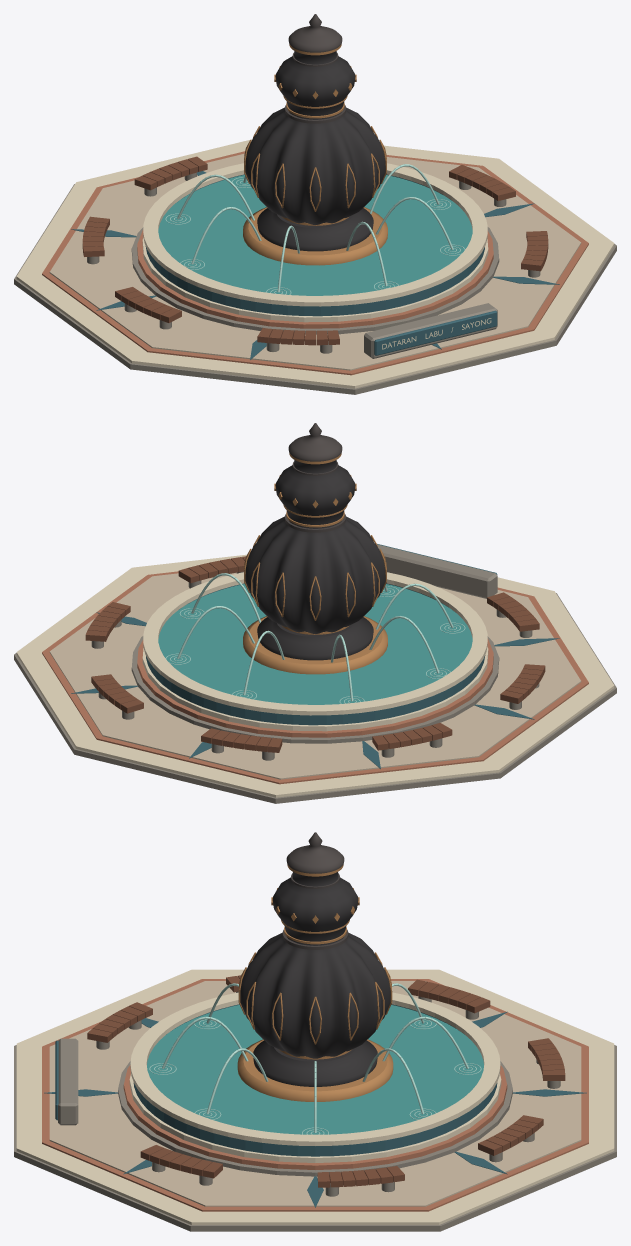
3 views of the same model, one above another, from view 1: azimuth 30°, elevation 25°; view 2: azimuth 150°, elevation 25°; view 3: azimuth 270°, elevation 25° (orthographic). The views are drawn at different scales.
Parts seen in each view (by area): view 1: Processional Paving, Octagonal Reflecting Basin, Labu Sayong Sculpture, Crescent Benches, Arc Jets; view 2: Processional Paving, Octagonal Reflecting Basin, Labu Sayong Sculpture, Crescent Benches, Arc Jets; view 3: Processional Paving, Octagonal Reflecting Basin, Labu Sayong Sculpture, Crescent Benches, Arc Jets.
Boxes of the visible parts, left/top/right/bottom form: Processional Paving: left=14, top=139, right=616, bottom=394; Octagonal Reflecting Basin: left=131, top=163, right=499, bottom=334; Labu Sayong Sculpture: left=244, top=14, right=386, bottom=225; Crescent Benches: left=82, top=156, right=548, bottom=353; Arc Jets: left=165, top=164, right=465, bottom=294; Processional Paving: left=14, top=544, right=616, bottom=803; Octagonal Reflecting Basin: left=131, top=572, right=499, bottom=743; Labu Sayong Sculpture: left=244, top=423, right=386, bottom=634; Crescent Benches: left=85, top=556, right=545, bottom=760; Arc Jets: left=165, top=573, right=465, bottom=703; Processional Paving: left=14, top=969, right=616, bottom=1231; Octagonal Reflecting Basin: left=118, top=992, right=512, bottom=1176; Labu Sayong Sculpture: left=238, top=832, right=392, bottom=1059; Crescent Benches: left=87, top=975, right=565, bottom=1196; Arc Jets: left=149, top=983, right=481, bottom=1134.
Size of the model in its own units: 21.67 by 10.77 by 21.67.
